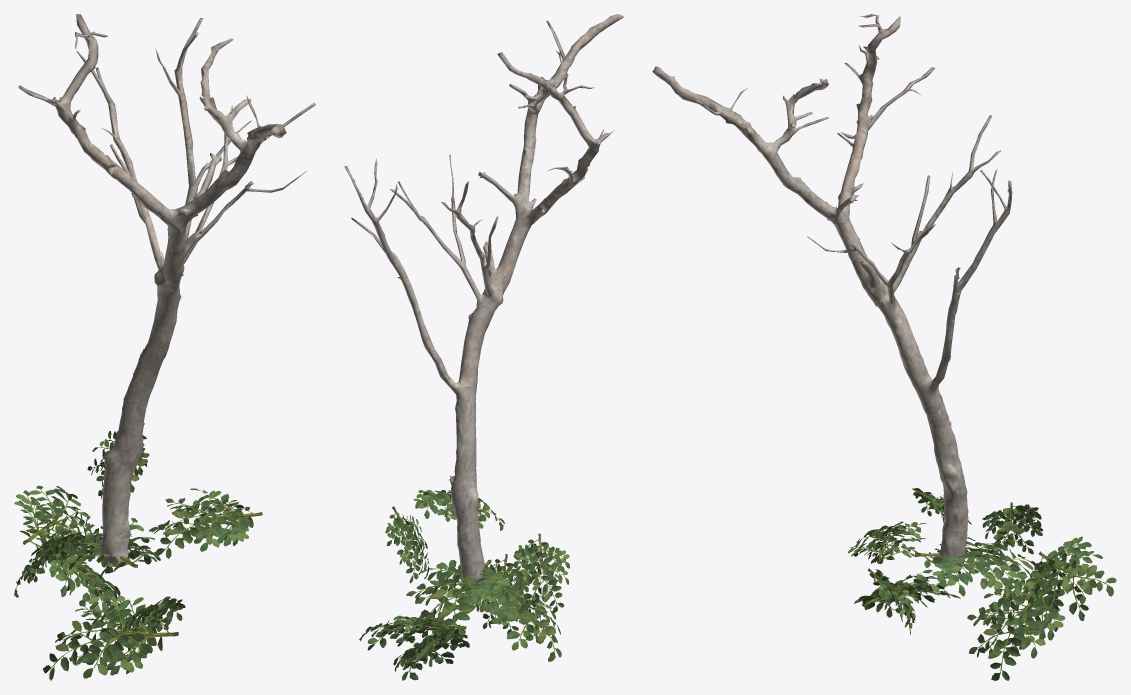
File: field_broadleaf_a_lod0.glb
3 renders of one model, left to right at view 1: azimuth 30°, elevation 25°; view 2: azimuth 150°, elevation 25°; view 3: azimuth 270°, elevation 25°, orthographic. The views are drawn at different scales.
Visible parts, largest first — view 1: bark_lod0, foliage_lod0; view 2: bark_lod0, foliage_lod0; view 3: bark_lod0, foliage_lod0.
Boxes of the visible parts, <box> form: bark_lod0: <box>18,14,315,566</box>; foliage_lod0: <box>14,423,262,680</box>; bark_lod0: <box>344,14,623,585</box>; foliage_lod0: <box>359,490,569,680</box>; bark_lod0: <box>652,14,1012,569</box>; foliage_lod0: <box>848,488,1116,680</box>.
Size of the model in its own units: 1.69 by 4.37 by 2.99.
Materials: 2 (2 with a texture image).
